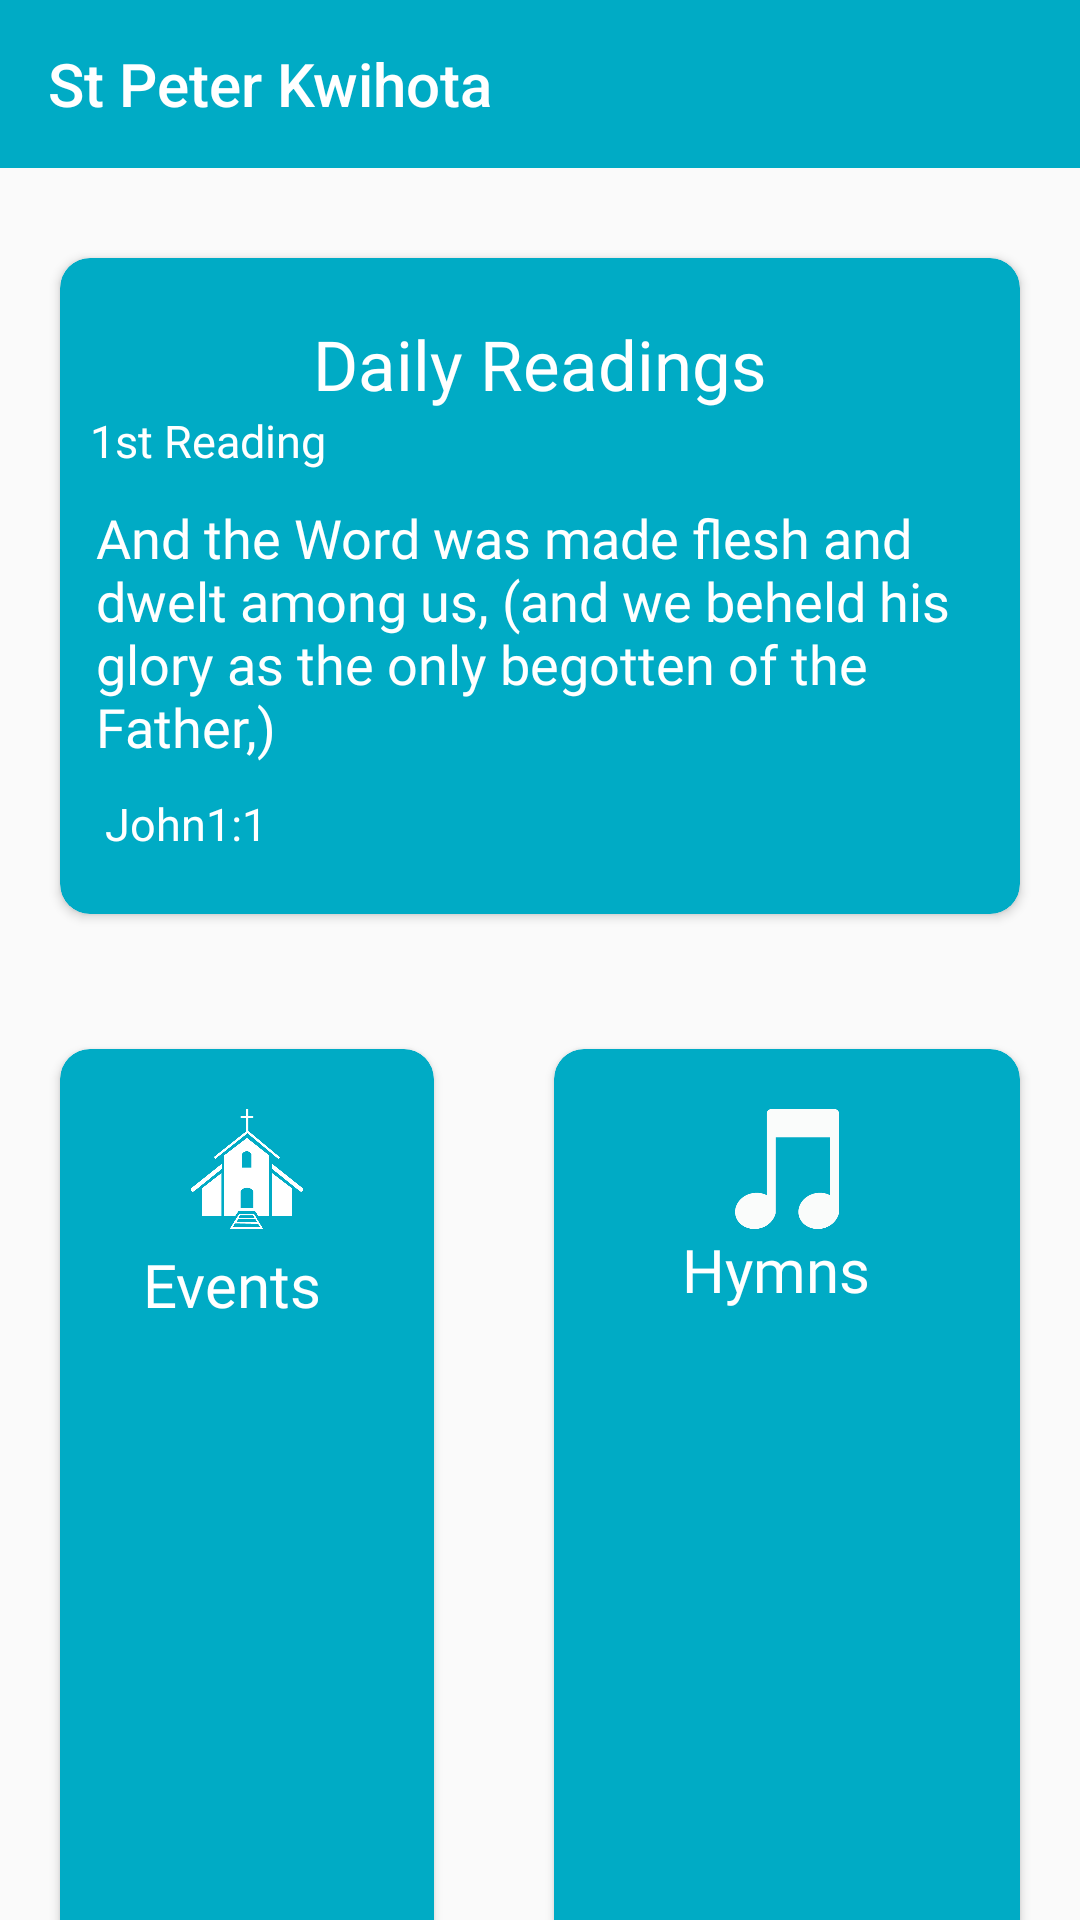

Where icons sit on this 1080 × 1920 app screen, as [x1,y1,x2,y2]:
mass: [191,1109,303,1229]
music: [735,1109,839,1229]
